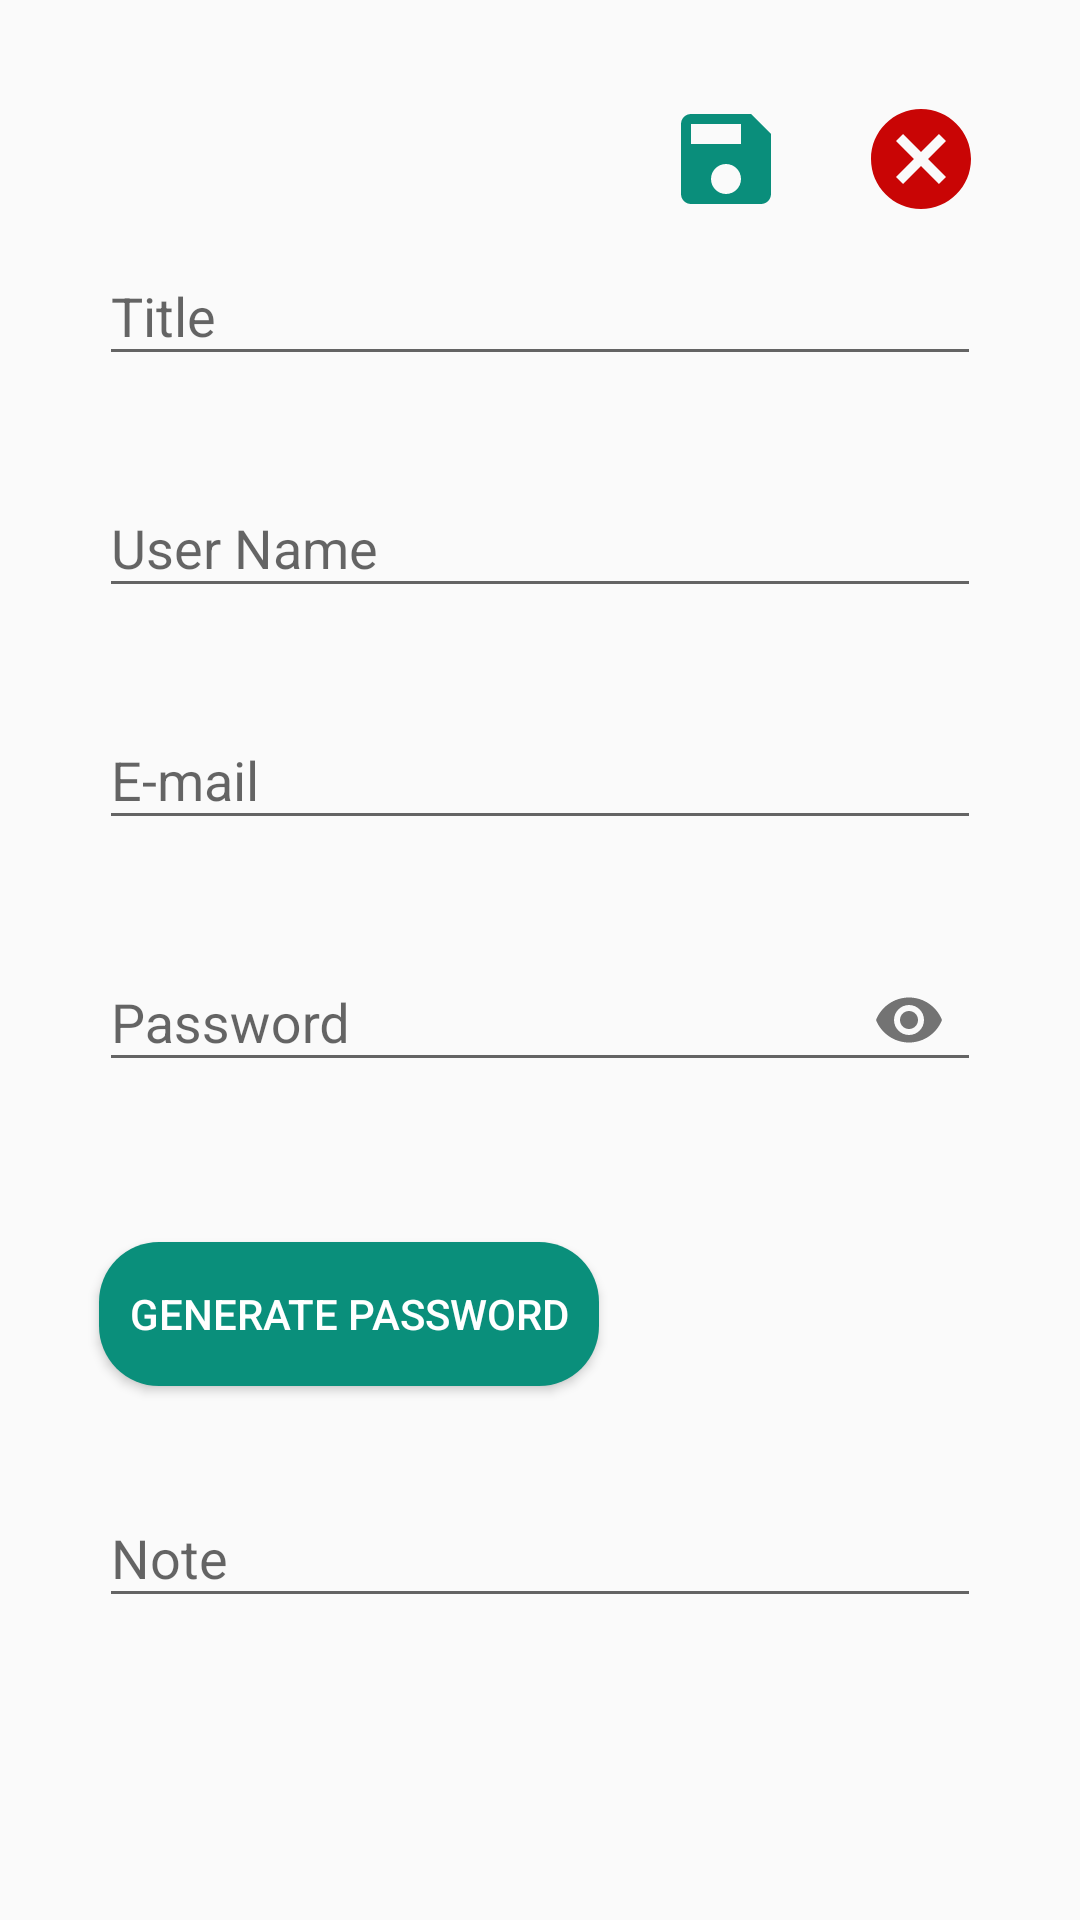

Screen size 1080w x 1920h. Icon name, then its box in pixels as detection(x1, y1, x2, y2):
cancel: detection(871, 109, 971, 209)
save: detection(681, 114, 771, 204)
